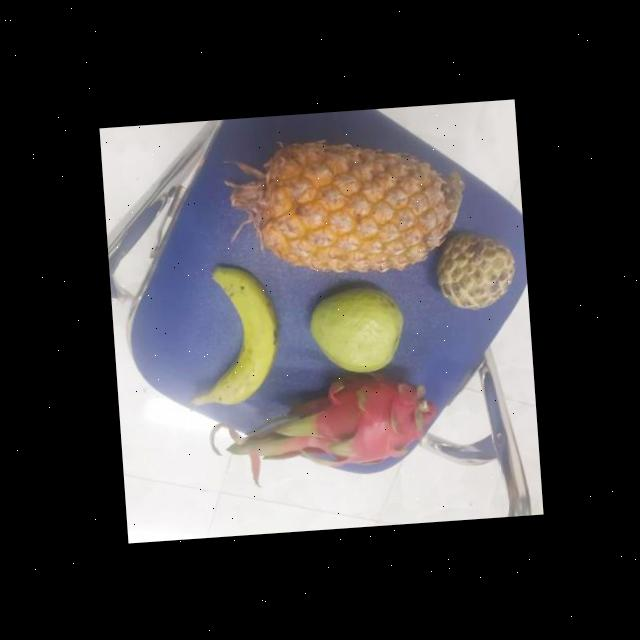Sakya fruit: (427, 228, 516, 310)
banana: (189, 266, 281, 406)
guava: (303, 284, 404, 373)
pineapple: (225, 137, 457, 278)
pitaya: (302, 368, 429, 468)
